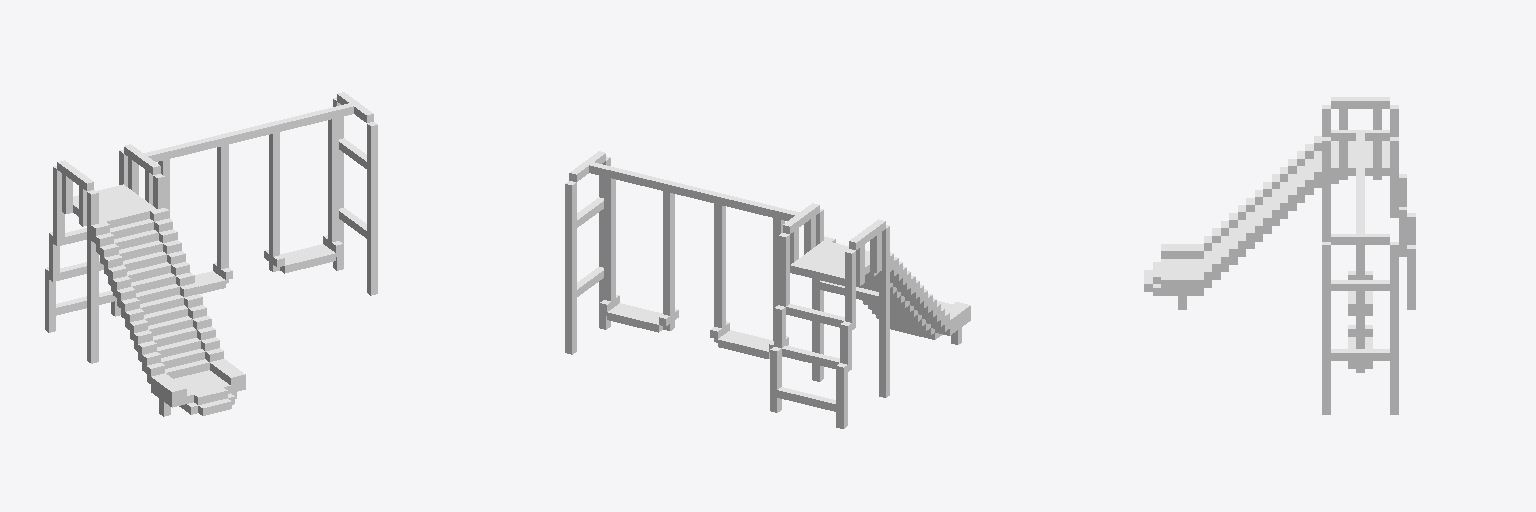
The model's file is Playground_Slide_Swing.obj.
The picture shows the model from 3 angles: view 1: azimuth 30°, elevation 25°; view 2: azimuth 150°, elevation 25°; view 3: azimuth 270°, elevation 25°; orthographic projection.
Visible parts, largest first — view 1: object 1; view 2: object 1; view 3: object 1.
Boxes of the visible parts, x1=… form: object 1: x1=45, y1=92, x2=377, y2=416; object 1: x1=565, y1=151, x2=970, y2=428; object 1: x1=1144, y1=97, x2=1415, y2=414.
Bounding box in the file's own units: 3.9 × 2.3 × 3.2.